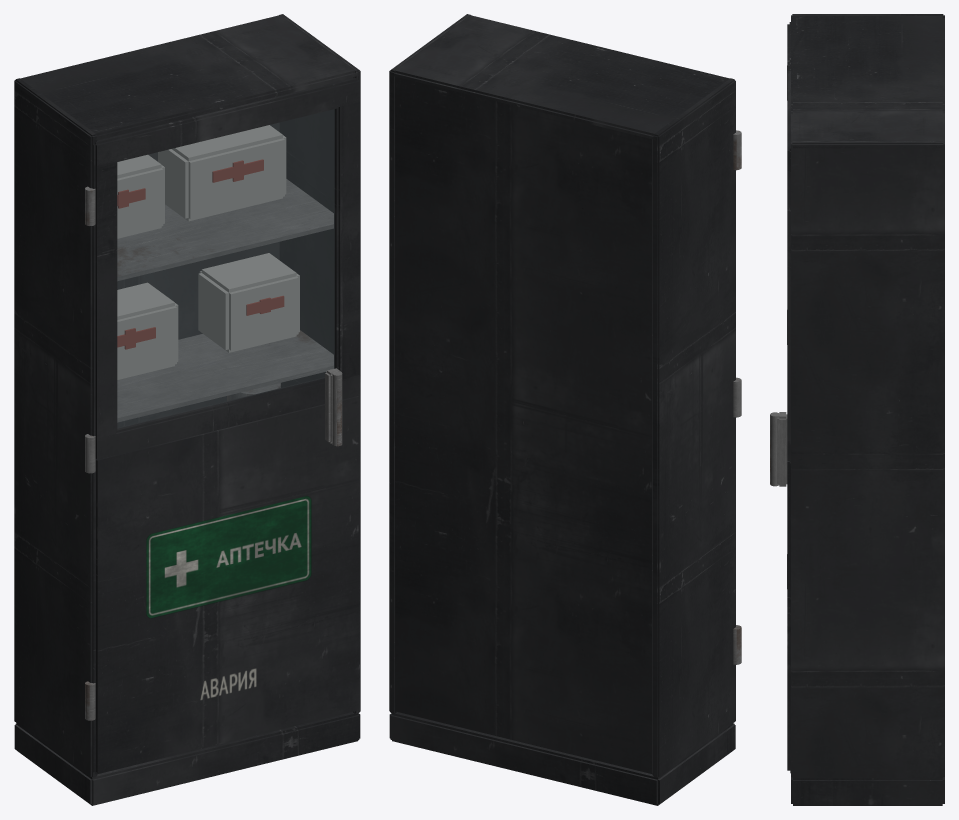
File: emergency_cabinet.gltf
The picture shows the model from 3 angles, left to right: view 1: azimuth 30°, elevation 25°; view 2: azimuth 150°, elevation 25°; view 3: azimuth 270°, elevation 25°; orthographic projection.
Parts seen in each view (by area): view 1: Door, Body; view 2: Body, Door; view 3: Body, Door.
Part boxes in pixels (left/top/right/bottom): Door: left=85, top=78, right=360, bottom=774; Body: left=14, top=14, right=360, bottom=805; Body: left=389, top=14, right=735, bottom=805; Door: left=733, top=130, right=741, bottom=664; Body: left=791, top=14, right=944, bottom=805; Door: left=770, top=22, right=790, bottom=773.
Size of the model in its own units: 0.8143 by 1.9 by 0.454.
Materials: 8 (4 with a texture image).
